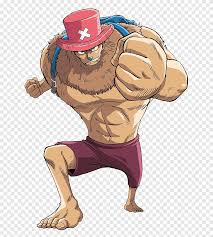chopper: (47, 7, 123, 93)
